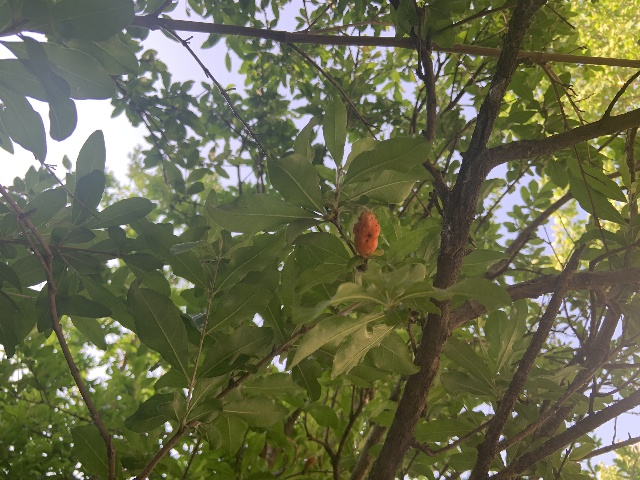bud: (353, 209, 380, 257)
